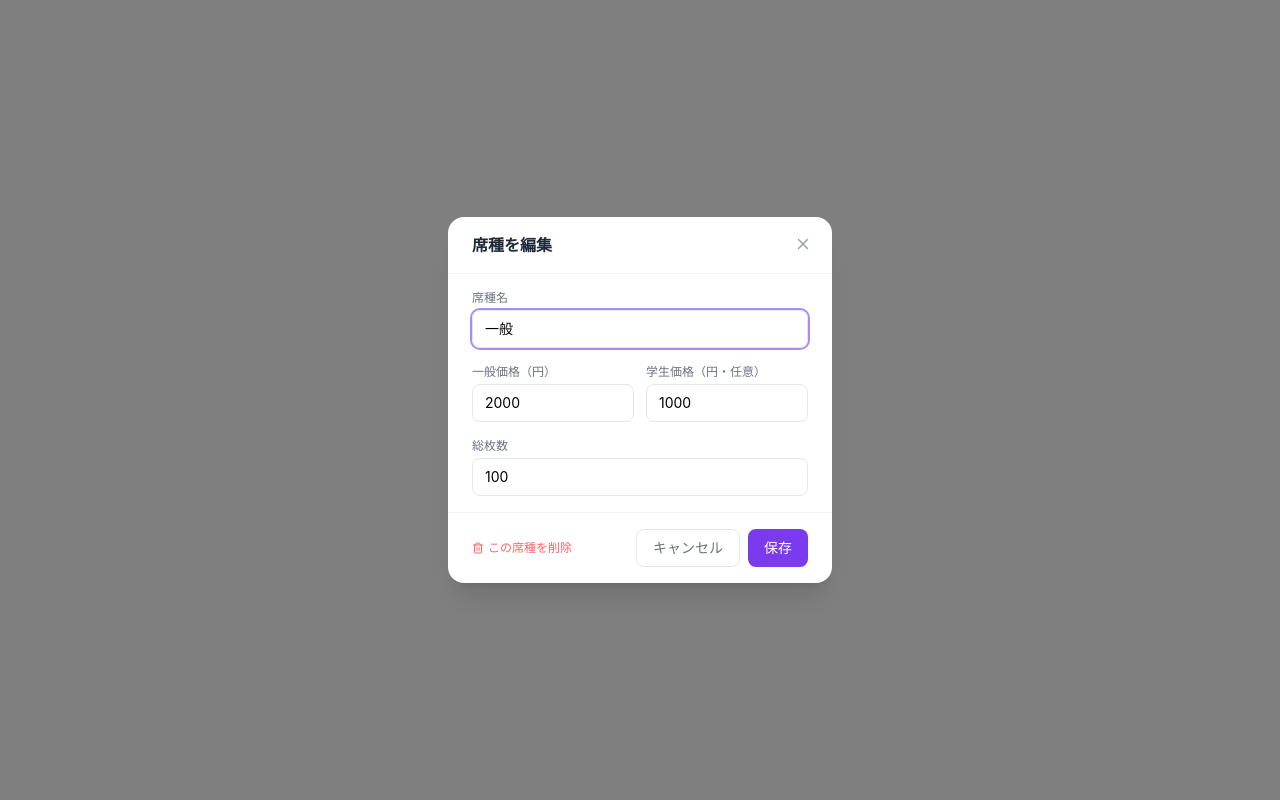
Test: EditBatchModal（削除の失敗） › 削除に失敗したら確認を開いたままエラーを表示する
The width and height of the screenshot is (1280, 800).
Step 1. Click the button "この席種を削除" → click(522, 548), box x1=472 y1=540 x2=572 y2=556
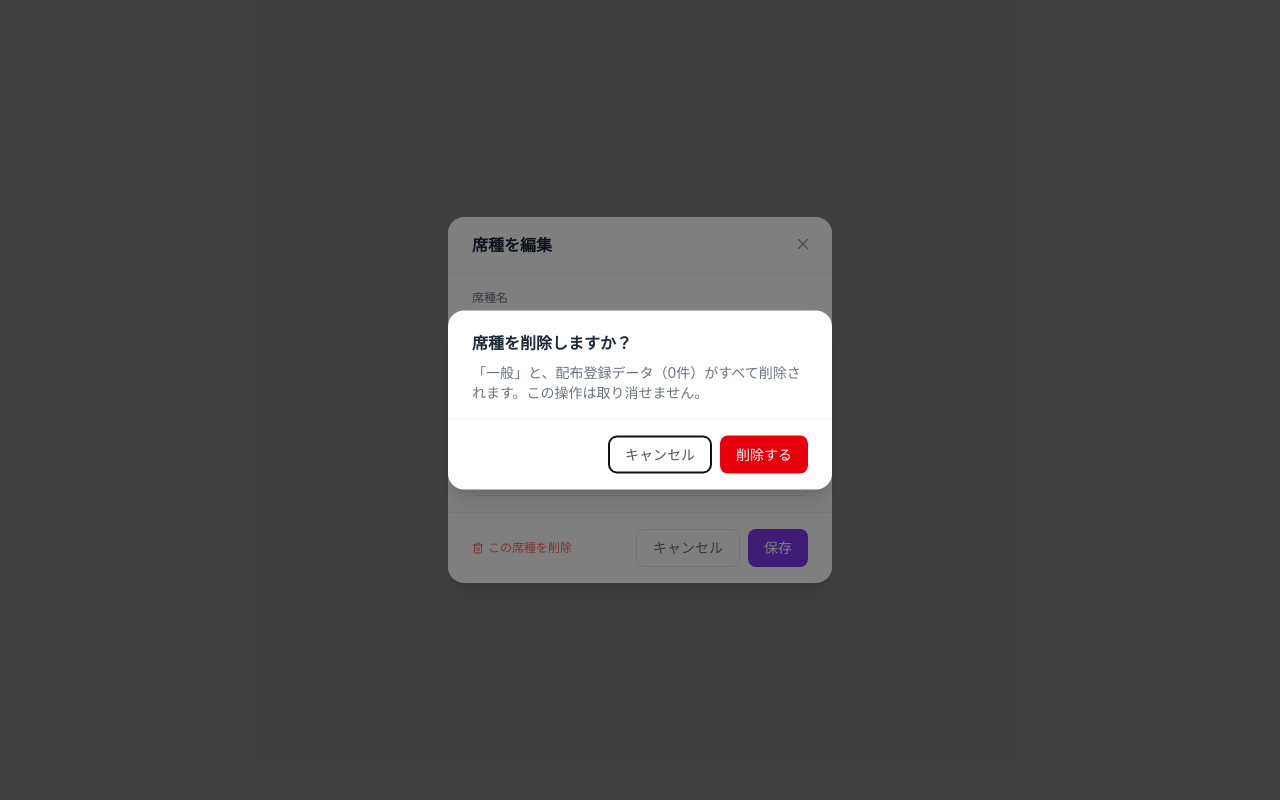
Step 2. Click the button "削除する" → click(764, 454), box x1=720 y1=436 x2=808 y2=474
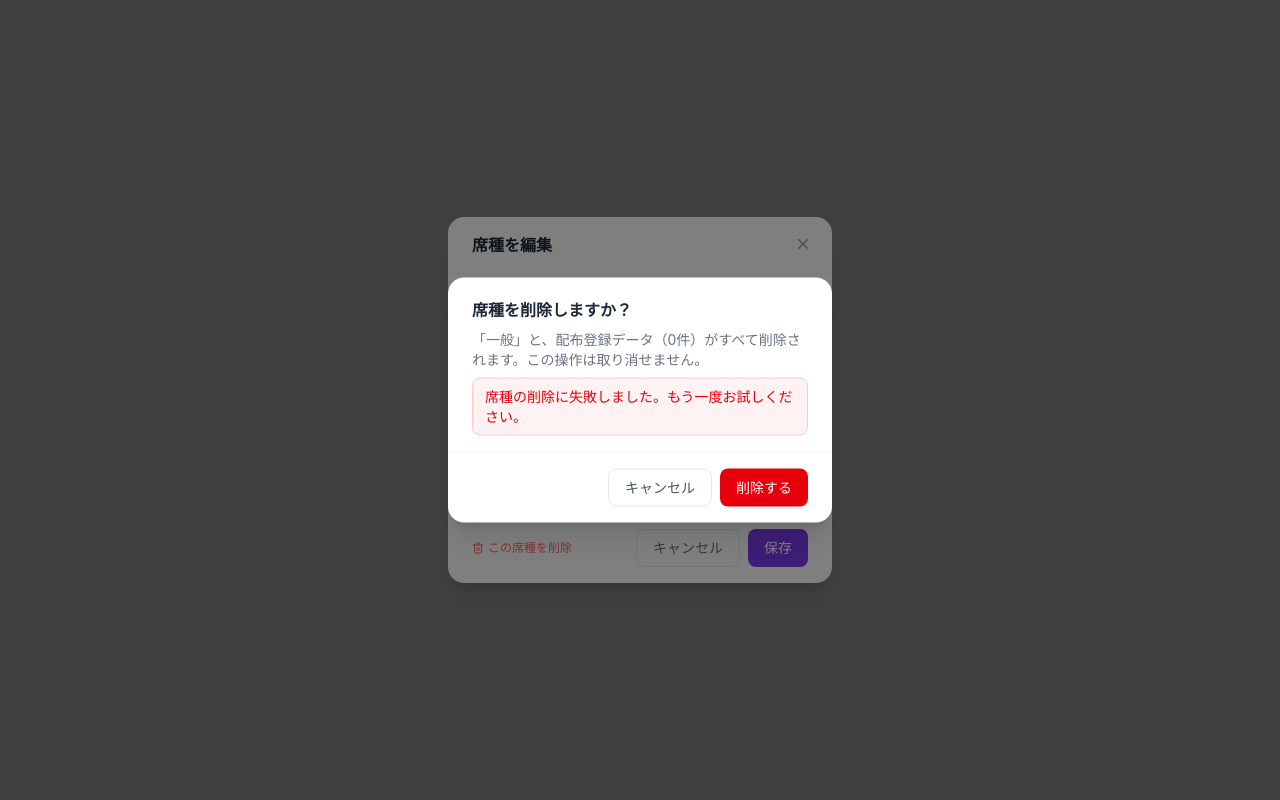
Result: the dialog "席種を削除しますか？" shows "「一般」と、配布登録データ" at x1=472 y1=330 x2=801 y2=368
Result: the message reads "席種の削除に失敗しました。もう一度お試しください。" at x1=485 y1=388 x2=793 y2=424
